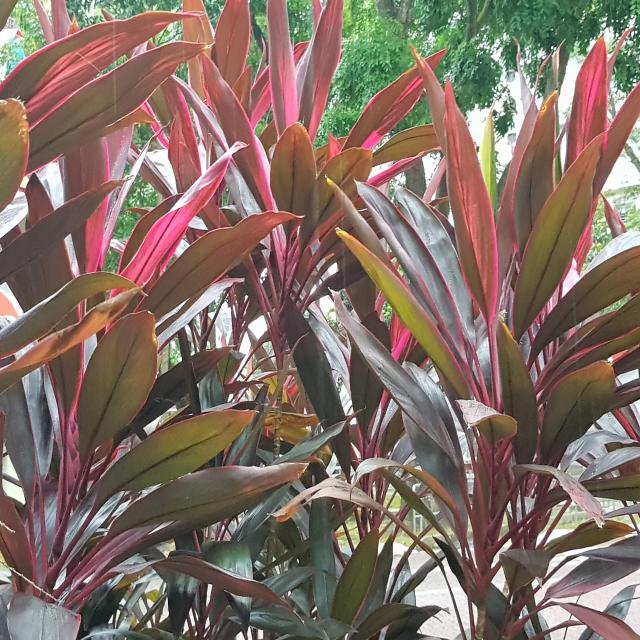Ti: (332, 72, 640, 563), (0, 133, 318, 602)
